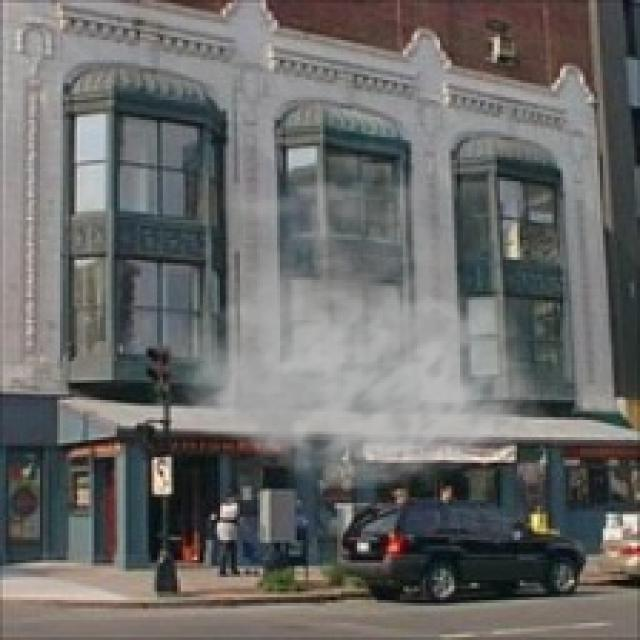Smoke: (148, 148, 552, 492)
